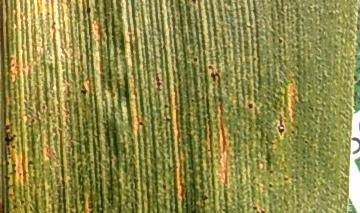tarspot: (205, 62, 222, 85), (3, 122, 16, 151), (275, 113, 287, 141), (151, 69, 163, 92), (83, 2, 93, 20), (245, 97, 255, 113), (134, 117, 146, 129), (79, 85, 90, 97), (25, 156, 37, 167), (248, 201, 259, 213), (157, 182, 170, 192), (275, 35, 286, 46), (266, 165, 276, 177), (161, 100, 171, 111), (280, 173, 291, 183), (200, 192, 209, 204), (3, 172, 12, 184), (164, 113, 172, 126), (190, 54, 200, 64), (19, 197, 27, 209), (266, 180, 276, 189), (2, 158, 12, 167), (11, 202, 19, 213)
